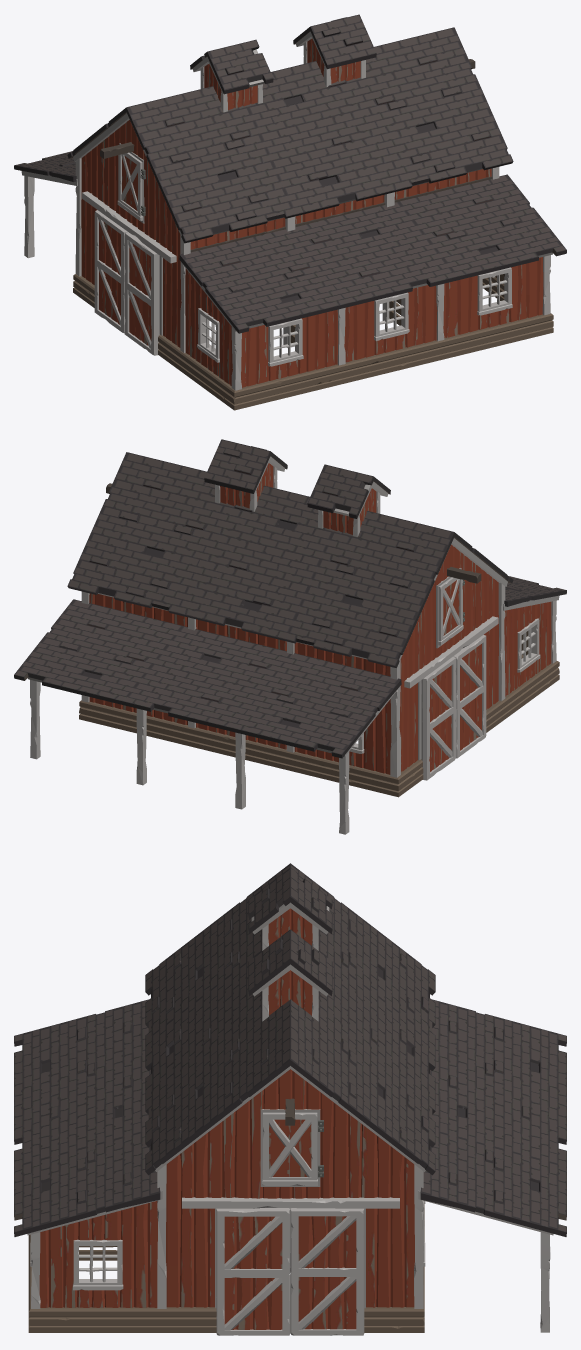
Rendered from SM_Bld_Barn_01.glb.
3 renders of one model, top to bottom at view 1: azimuth 30°, elevation 25°; view 2: azimuth 150°, elevation 25°; view 3: azimuth 270°, elevation 25°, orthographic. The views are drawn at different scales.
Parts seen in each view (by area): view 1: SM_Bld_Barn_01; view 2: SM_Bld_Barn_01; view 3: SM_Bld_Barn_01.
Part boxes in pixels (<box>): SM_Bld_Barn_01: <box>14,14,566,410</box>; SM_Bld_Barn_01: <box>14,439,566,834</box>; SM_Bld_Barn_01: <box>14,863,566,1335</box>.
Size of the model in its own units: 13.49 by 9.11 by 14.16.
Materials: 1 (1 with a texture image).
